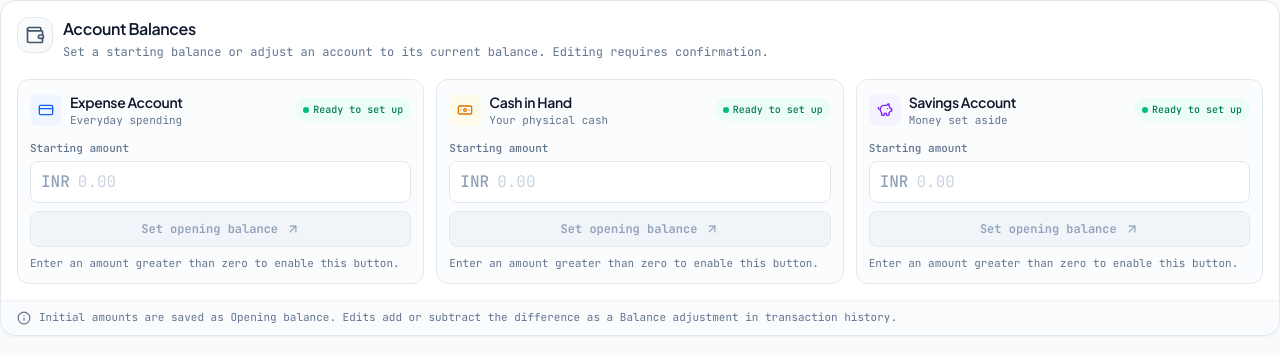
Opening balances › formats whole-unit spinner changes with two decimal places
The image size is (1280, 353).
Type "1" into the number field named "Cash in Hand opening balance" at (658, 182), box [497,162,820,202]
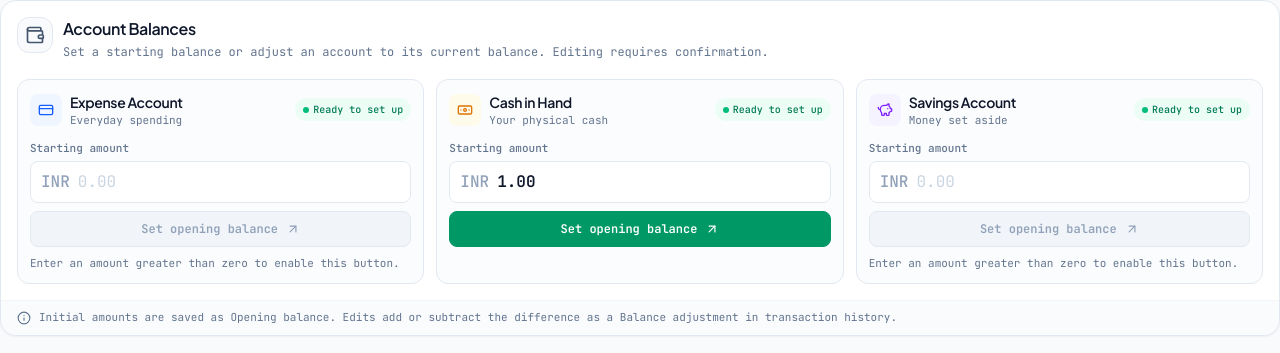
Expected: the number field named "Cash in Hand opening balance" holds "1.00"
Replace the text in the number field named "Cash in Hand opening balance" with "2" at (658, 182), box [497,162,820,202]
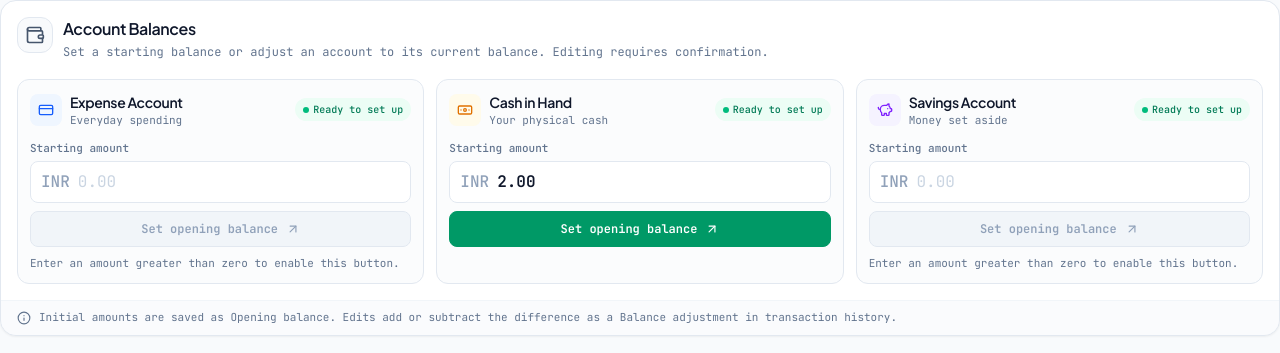
Expected: the number field named "Cash in Hand opening balance" holds "2.00", [497,162,820,202]
